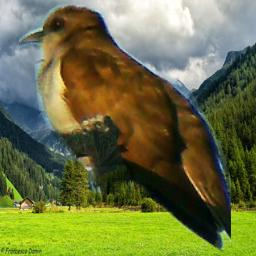Cuckoo: (19, 4, 231, 255)
